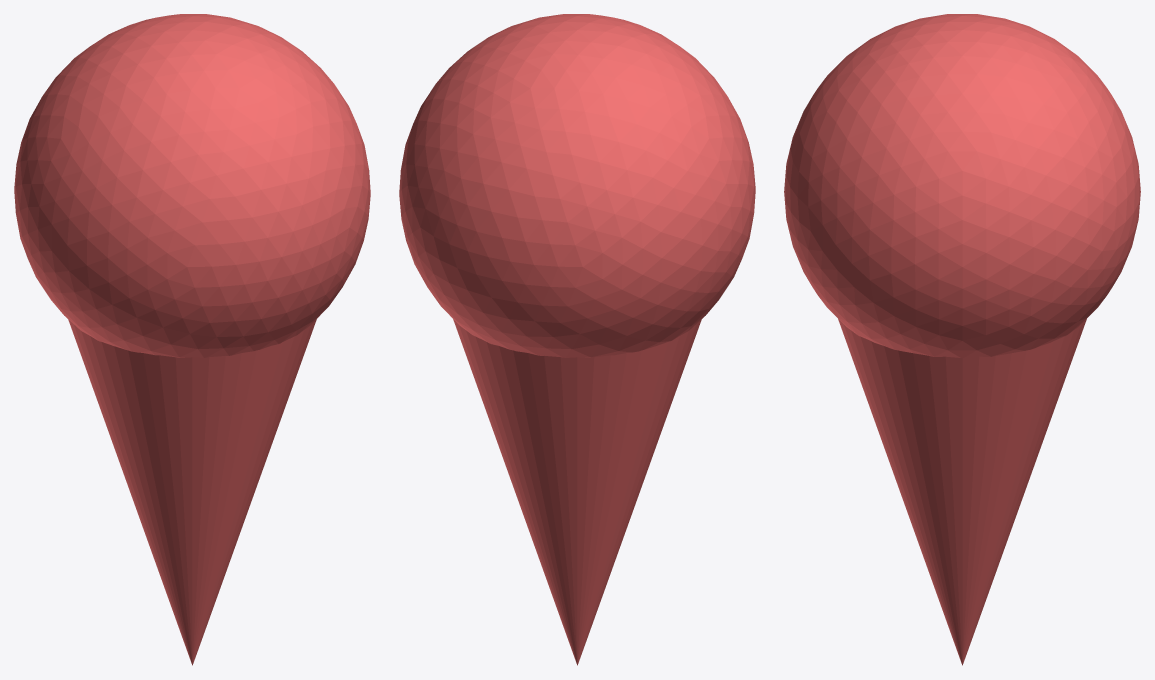
File: marker_high.glb
3 views of the same model, side by side, from view 1: azimuth 30°, elevation 25°; view 2: azimuth 150°, elevation 25°; view 3: azimuth 270°, elevation 25° (orthographic).
Visible parts, largest first — view 1: world; view 2: world; view 3: world.
Part boxes in pixels (left/top/right/bottom): world: left=14, top=14, right=370, bottom=665; world: left=399, top=14, right=755, bottom=665; world: left=784, top=14, right=1140, bottom=665.
Bounding box in the file's own units: 0.12 × 0.236 × 0.12.
